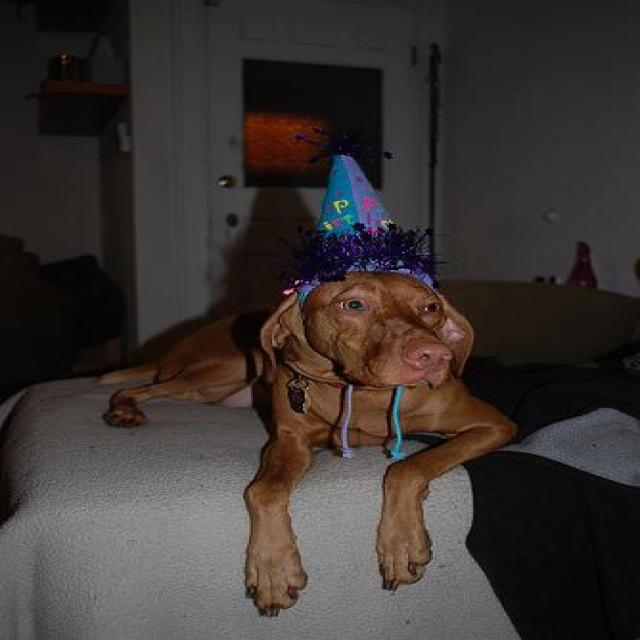vizsla: (86, 148, 512, 621)
